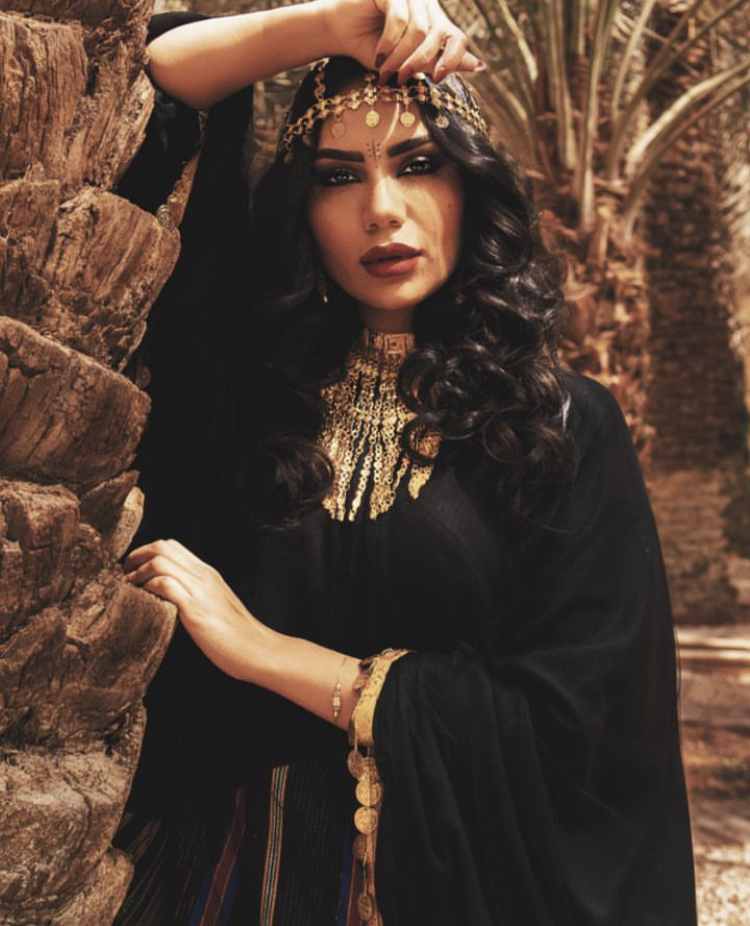Saudi_Founding_Day: (119, 3, 701, 926)
